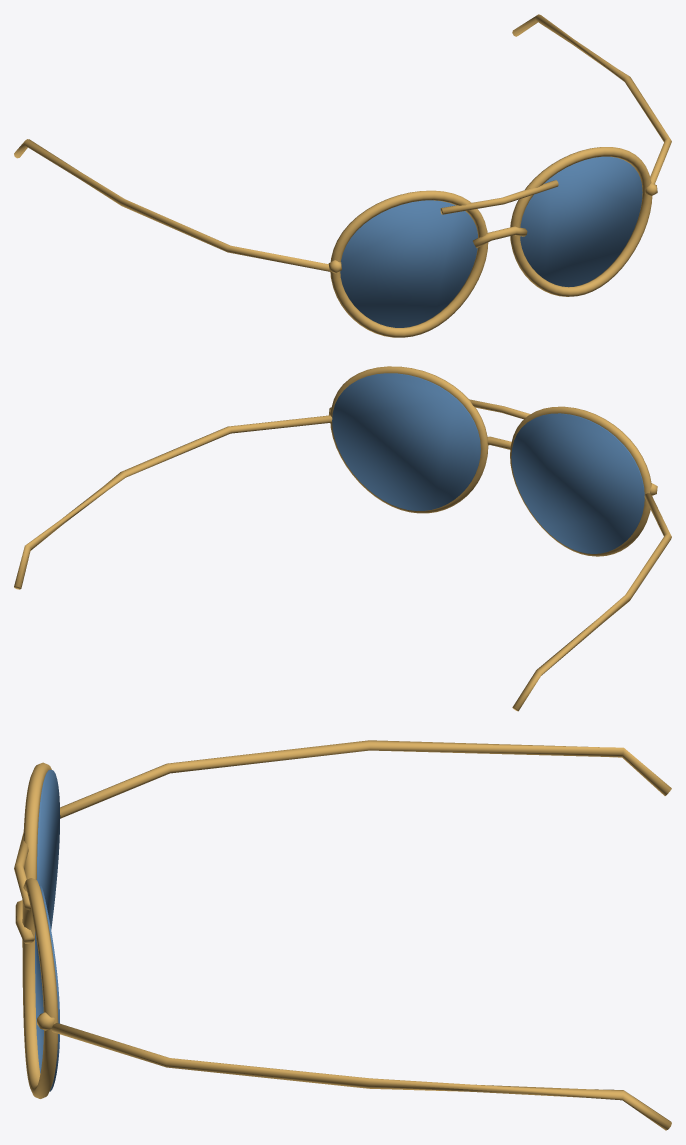
The model's file is 09-highway-aviator.glb.
3 renders of one model, top to bottom at view 1: azimuth 30°, elevation 25°; view 2: azimuth 150°, elevation 25°; view 3: azimuth 270°, elevation 25°, orthographic. The views are drawn at different scales.
Visible parts, largest first — view 1: Glasses09_Lens-12, Glasses09_Lens14, Glasses09_Rim-11, Glasses09_Rim13, Glasses09_Temple-17, Glasses09_Temple19, Glasses09_UpperBridge6, Glasses09_Bridge5; view 2: Glasses09_Lens14, Glasses09_Lens-12, Glasses09_Temple19, Glasses09_Rim13, Glasses09_Rim-11, Glasses09_Temple-17; view 3: Glasses09_Temple-17, Glasses09_Temple19, Glasses09_Rim13, Glasses09_Lens-12, Glasses09_Rim-11, Glasses09_Lens14, Glasses09_UpperBridge6.
Part boxes in pixels (x1,y1,x2,y2): Glasses09_Lens-12: [340, 200, 477, 327]; Glasses09_Lens14: [520, 156, 642, 287]; Glasses09_Rim-11: [330, 190, 488, 337]; Glasses09_Rim13: [510, 147, 652, 296]; Glasses09_Temple-17: [14, 139, 330, 271]; Glasses09_Temple19: [512, 14, 671, 184]; Glasses09_UpperBridge6: [440, 180, 558, 214]; Glasses09_Bridge5: [473, 226, 527, 248]; Glasses09_Lens14: [332, 373, 480, 510]; Glasses09_Lens-12: [511, 413, 644, 553]; Glasses09_Temple19: [14, 415, 332, 589]; Glasses09_Rim13: [330, 366, 488, 513]; Glasses09_Rim-11: [510, 406, 652, 556]; Glasses09_Temple-17: [512, 493, 671, 711]; Glasses09_Temple-17: [60, 740, 671, 818]; Glasses09_Temple19: [51, 1023, 671, 1130]; Glasses09_Rim13: [22, 878, 58, 1098]; Glasses09_Lens-12: [36, 769, 60, 929]; Glasses09_Rim-11: [22, 762, 51, 900]; Glasses09_Lens14: [35, 885, 59, 1091]; Glasses09_UpperBridge6: [14, 832, 30, 910].
Size of the model in its own units: 0.6322 by 0.168 by 0.5066.
